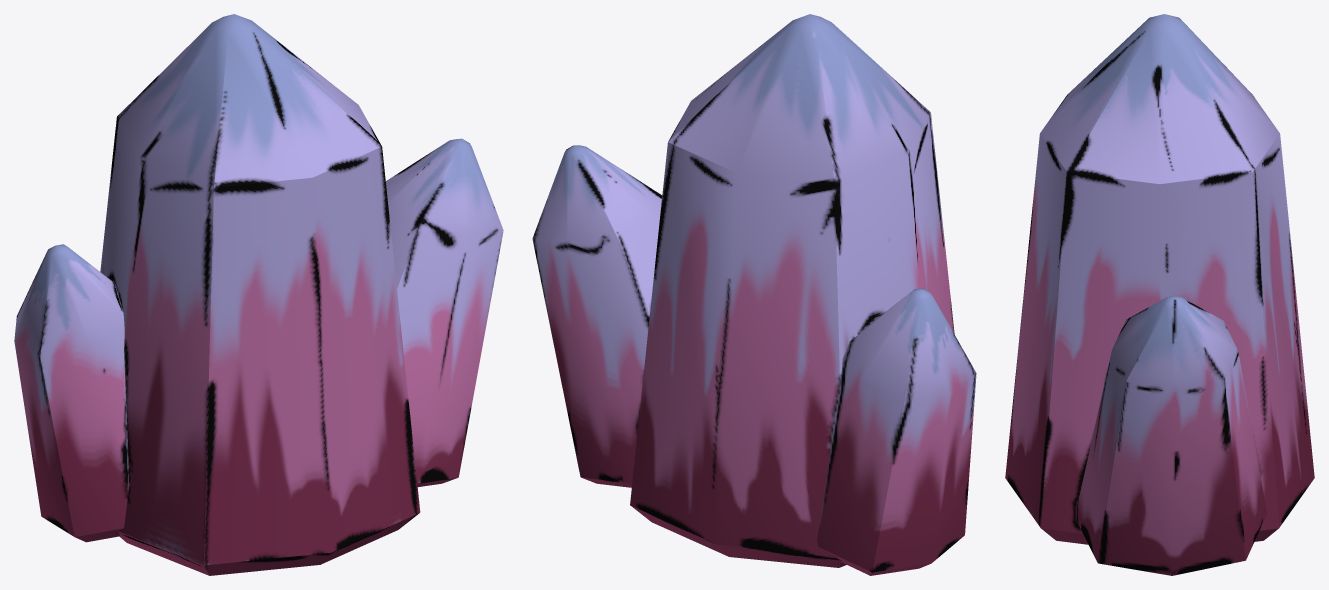
Rendered from SaltCrystal.fbx.
3 renders of one model, left to right at view 1: azimuth 30°, elevation 25°; view 2: azimuth 150°, elevation 25°; view 3: azimuth 270°, elevation 25°, orthographic. The views are drawn at different scales.
Parts seen in each view (by area): view 1: Salt Crystal; view 2: Salt Crystal; view 3: Salt Crystal.
Part boxes in pixels (x1=…): Salt Crystal: x1=14, y1=14, x2=503, y2=575; Salt Crystal: x1=532, y1=14, x2=976, y2=575; Salt Crystal: x1=1005, y1=14, x2=1314, y2=575.
Size of the model in its own units: 57.26 by 36.38 by 61.85.
Materials: 1 (1 with a texture image).
